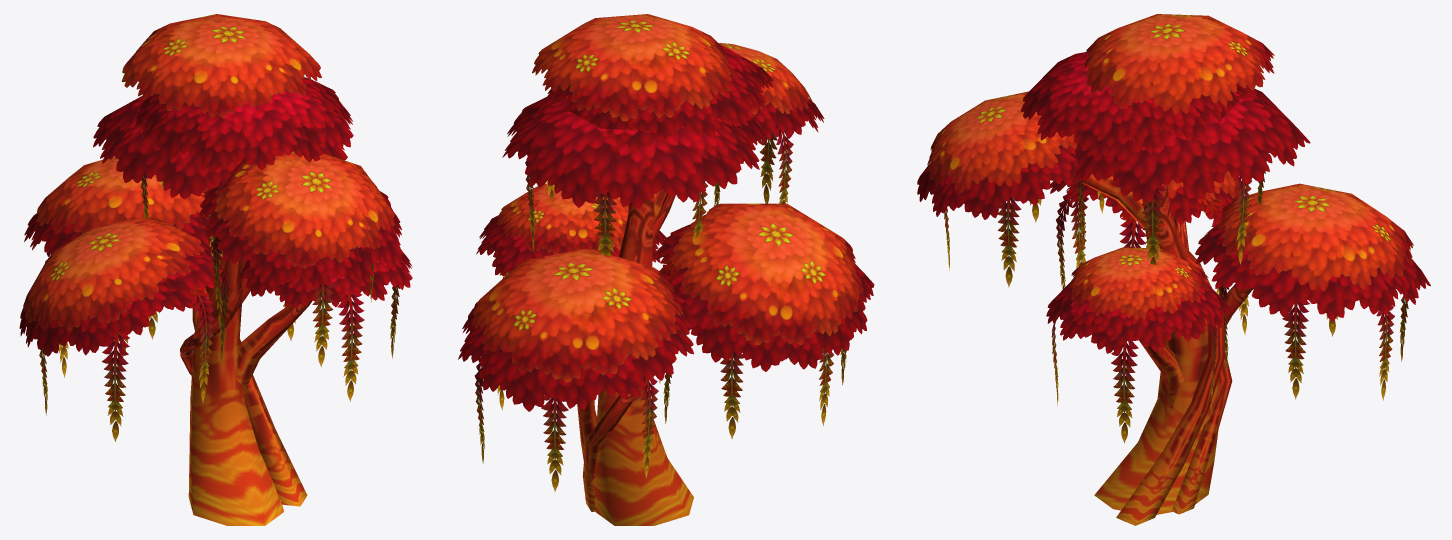
The model's file is Red_Tree_08f.FBX.
3 views of the same model, side by side, from view 1: azimuth 30°, elevation 25°; view 2: azimuth 150°, elevation 25°; view 3: azimuth 270°, elevation 25° (orthographic). The views are drawn at different scales.
Visible parts, largest first — view 1: Red_Tree_08f; view 2: Red_Tree_08f; view 3: Red_Tree_08f.
Part boxes in pixels (box(x1,y1,x2,y2)): Red_Tree_08f: box(19, 14, 412, 525); Red_Tree_08f: box(458, 14, 874, 525); Red_Tree_08f: box(917, 14, 1430, 525).
Size of the model in its own units: 420 by 496 by 510.
